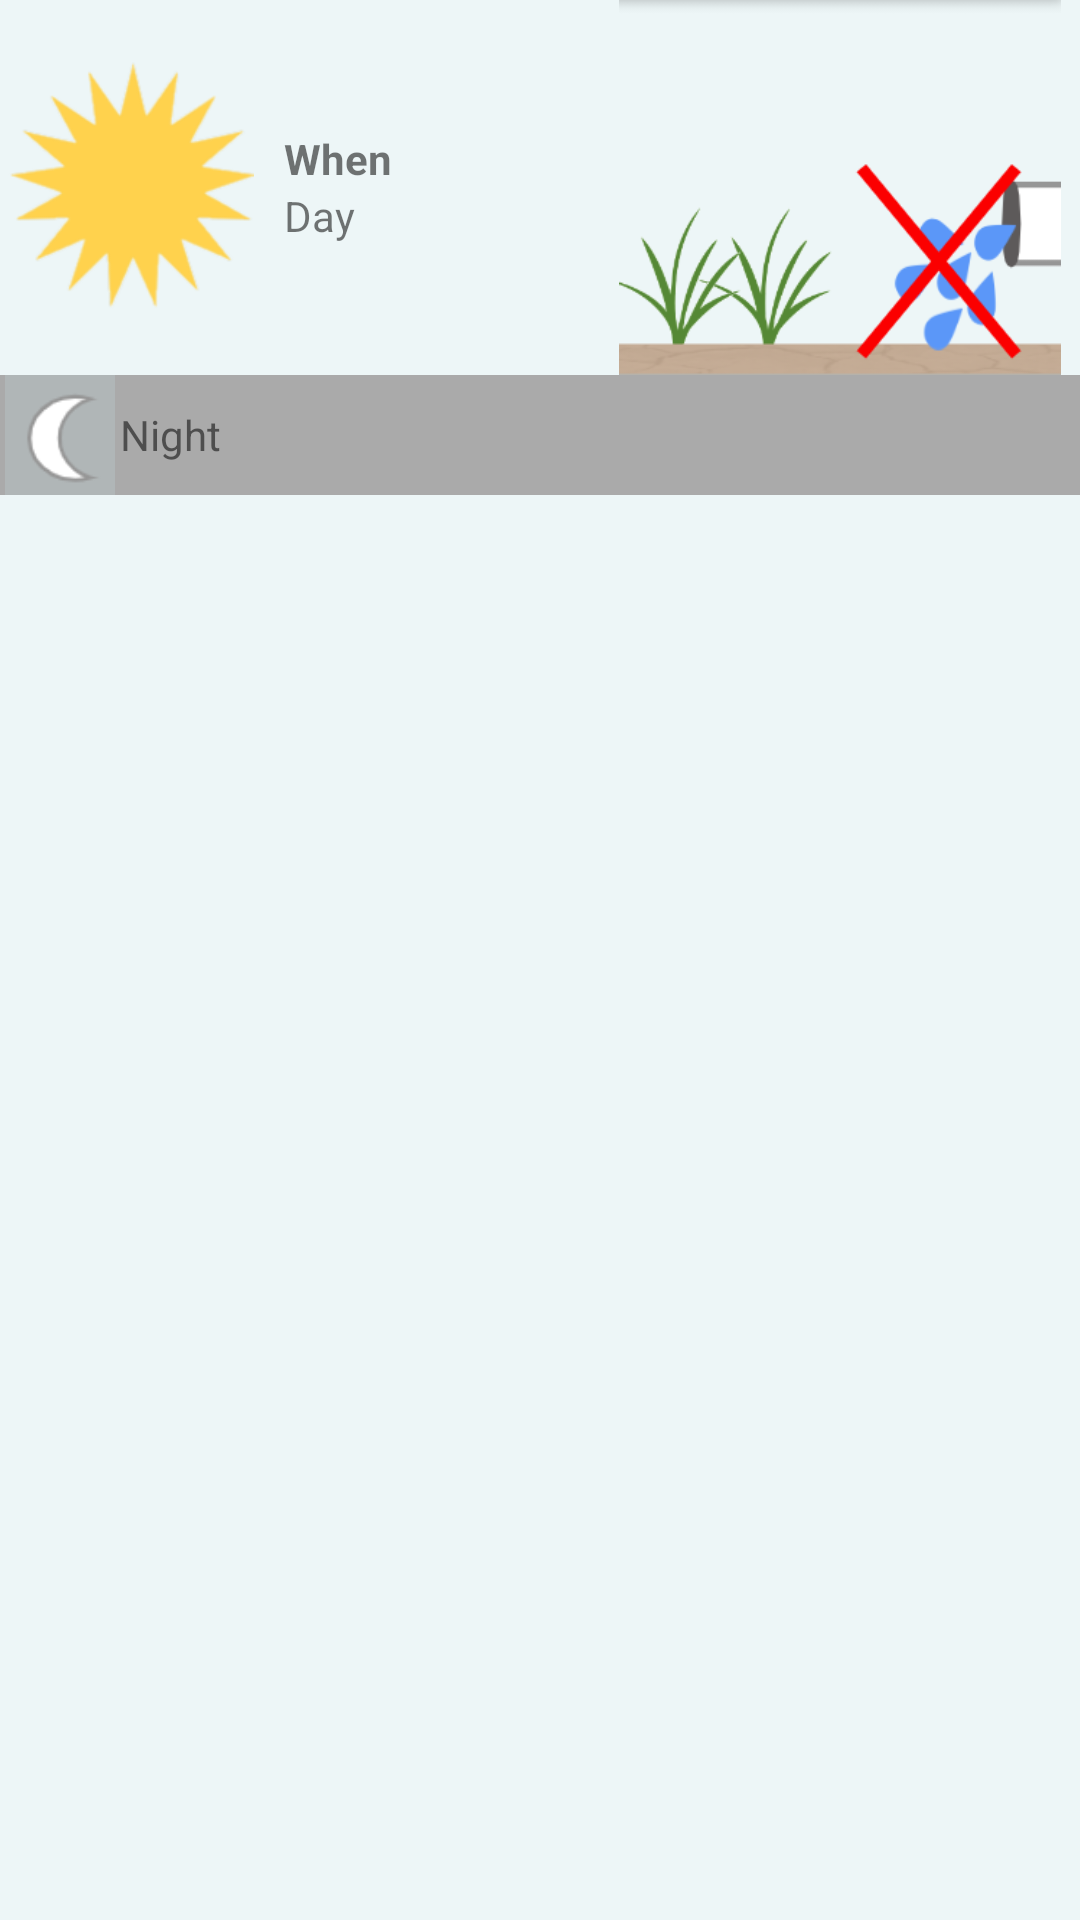

Named icons in this screenshot (1080 x 1920) and their bounding boxes, detection(x1, y1, x2, y2):
forecast: detection(11, 64, 254, 306)
